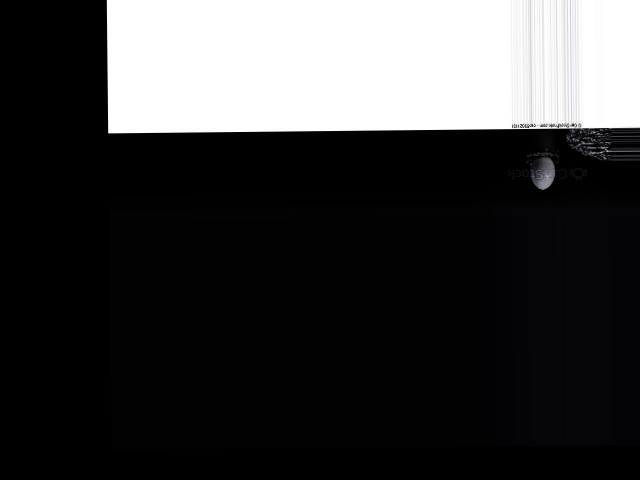egg: (529, 155, 555, 189)
